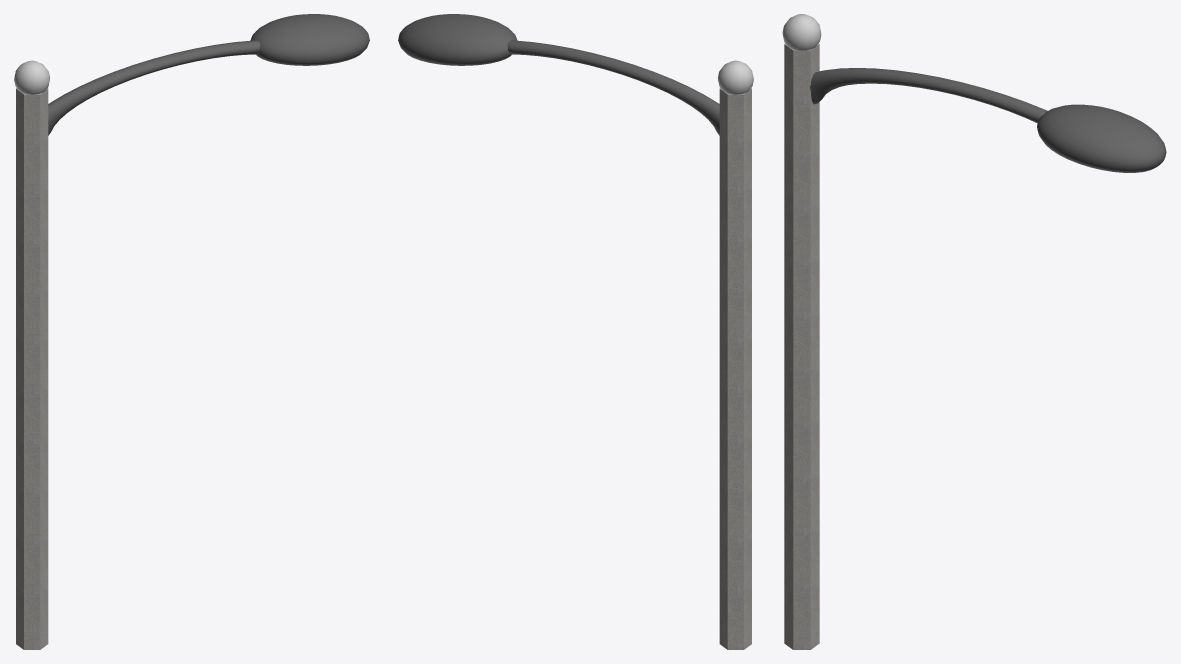
The model's file is Lamp31.obj.
3 views of the same model, side by side, from view 1: azimuth 30°, elevation 25°; view 2: azimuth 150°, elevation 25°; view 3: azimuth 330°, elevation 25° (orthographic). The views are drawn at different scales.
Visible parts, largest first — view 1: Pole_Cylinder, LightPart_Sphere, Torus.001, Sphere_Sphere.001; view 2: Pole_Cylinder, LightPart_Sphere, Torus.001, Sphere_Sphere.001; view 3: Pole_Cylinder, LightPart_Sphere, Torus.001, Sphere_Sphere.001.
Boxes of the visible parts, bbox=[...] form: Pole_Cylinder: bbox=[16, 88, 48, 649]; LightPart_Sphere: bbox=[250, 14, 369, 65]; Torus.001: bbox=[48, 40, 260, 135]; Sphere_Sphere.001: bbox=[14, 60, 49, 94]; Pole_Cylinder: bbox=[719, 88, 751, 649]; LightPart_Sphere: bbox=[398, 14, 517, 65]; Torus.001: bbox=[507, 40, 719, 135]; Sphere_Sphere.001: bbox=[718, 60, 753, 94]; Pole_Cylinder: bbox=[784, 43, 819, 649]; LightPart_Sphere: bbox=[1037, 104, 1166, 172]; Torus.001: bbox=[810, 68, 1047, 123]; Sphere_Sphere.001: bbox=[782, 14, 821, 50].
Size of the model in its own units: 9.13 by 14.53 by 2.
4 materials, 1 textured.
